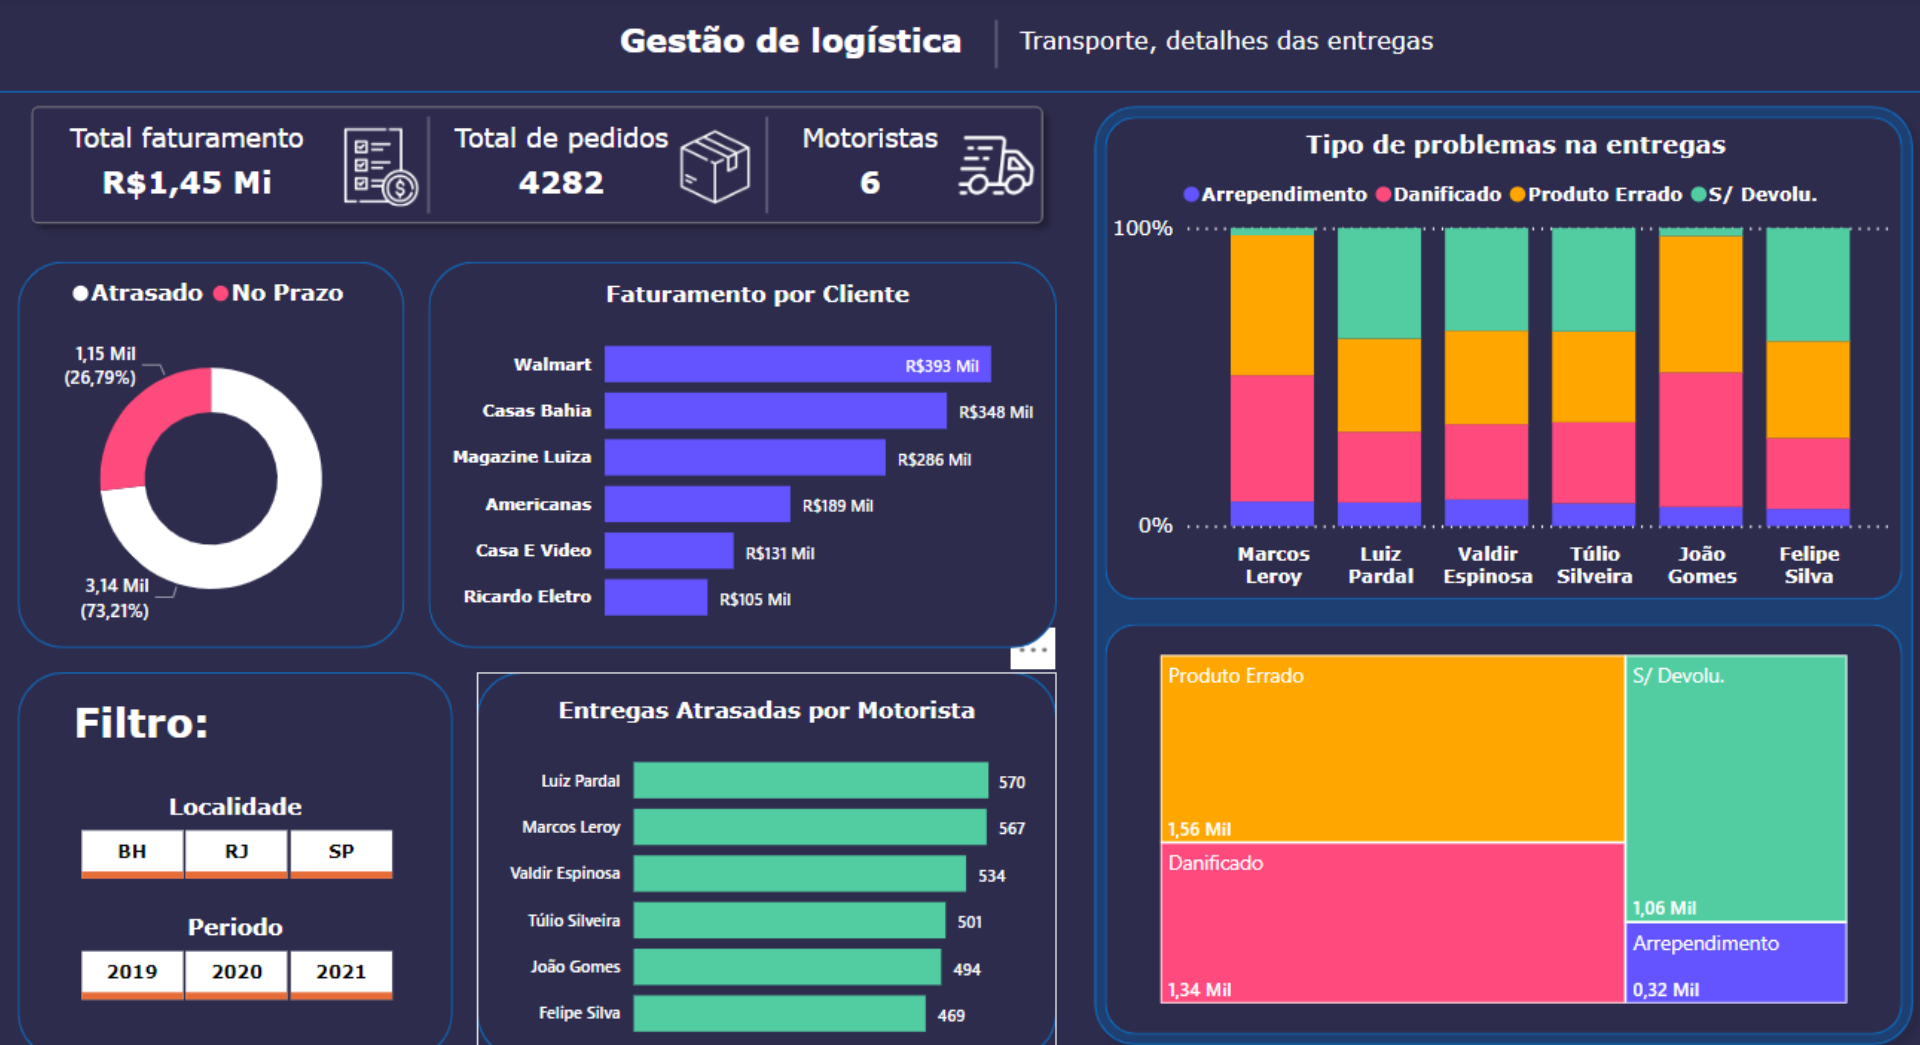

The dashboard page shown, as its layout file describes it:
{"tool":"powerbi","page":{"name":"Logistica","canvas":[1280,720],"ordinal":1},"visuals":[{"type":"shape","box":[0,48,1280,672],"z":0},{"type":"shape","box":[720,64,560,656],"z":2000},{"type":"shape","box":[736,80,528,320],"z":3000},{"type":"shape","box":[736,416,528,288],"z":4000},{"type":"shape","box":[320,448,384,256],"z":5000},{"type":"shape","box":[288,176,416,256],"z":6000},{"type":"shape","box":[16,176,256,256],"z":7000},{"type":"shape","box":[16,448,288,256],"z":8000},{"type":"shape","box":[16,64,688,96],"z":9000},{"type":"slicer","title":"Periodo","fields":{"Values":["tbFaturamento.Data Emissão Pedido.Variation.Hierarquia de datas.Ano"]},"box":[27,240,240,64],"z":10000},{"type":"clusteredBarChart","title":"Faturamento por Cliente","fields":{"Category":["tbFaturamento.Cliente"],"Y":["logistica.R$ Faturados"]},"box":[298,188,416,240],"z":11000},{"type":"slicer","title":"Localidade","fields":{"Values":["tbFaturamento.Destino"]},"box":[24,336,240,64],"z":12000},{"type":"donutChart","title":"Status da Entrega","fields":{"Category":["tbFaturamento.Status"],"Y":["tbFaturamento.Nº Pedido"]},"box":[16,448,288,272],"z":13000},{"type":"treemap","title":"Motivo de devolucao","fields":{"Group":["tbFaturamento.Mot. Devolução"],"Values":["tbFaturamento.Nº Pedido"]},"box":[752,423,496,274],"z":14000},{"type":"clusteredBarChart","title":"Entregas Atrasadas por Motorista","fields":{"Category":["tbFaturamento.Motorista"],"Y":["logistica.Nº Pedido"]},"box":[336,464,352,240],"z":15000},{"type":"hundredPercentStackedColumnChart","title":"Devolucao por Motorias","fields":{"Category":["tbFaturamento.Motorista"],"Y":["tbFaturamento.Nº Pedido"],"Series":["tbFaturamento.Mot. Devolução"]},"box":[736,112,528,288],"z":16000},{"type":"card","title":"Total faturamento","fields":{"Values":["tbFaturamento.R$ Faturados"]},"box":[16,82,224,64],"z":17000},{"type":"card","title":"Total de pedidos","fields":{"Values":["tbFaturamento.Nº Pedido"]},"box":[256,82,240,64],"z":18000},{"type":"card","title":"Motoristas","fields":{"Values":["tbFaturamento.Motorista"]},"box":[492,82,176,64],"z":19000},{"type":"textbox","title":"Filtro por:","box":[90,188,112,32],"z":20000},{"type":"shape","box":[256,80,64,64],"z":21000},{"type":"shape","box":[480,80,64,64],"z":22000},{"type":"textbox","title":"Tipo de problemas na entregas","box":[864,89,304,26],"z":23000},{"type":"image","box":[215,80,80,64],"z":24000},{"type":"image","box":[624,80,80,64],"z":25000},{"type":"image","box":[446,80,64,64],"z":26000},{"type":"shape","box":[0,0,1280,64],"z":27000},{"type":"textbox","title":"Gestão de logística ","box":[400,16,256,32],"z":28000},{"type":"shape","box":[656,16,16,32],"z":29000},{"type":"textbox","title":"Transporte, detalhes das entregas","box":[672,20,289,23],"z":30000}]}

Visuals, with their boxes on the page's 1280x720 design canvas (x1, y1, x2, y2). These are canvas units, not pixel positions in the 1920x1045 screenshot, which may show the page scaled, cropped or inside an application window:
shape: (left=0, top=48, right=1280, bottom=720)
shape: (left=720, top=64, right=1280, bottom=720)
shape: (left=736, top=80, right=1264, bottom=400)
shape: (left=736, top=416, right=1264, bottom=704)
shape: (left=320, top=448, right=704, bottom=704)
shape: (left=288, top=176, right=704, bottom=432)
shape: (left=16, top=176, right=272, bottom=432)
shape: (left=16, top=448, right=304, bottom=704)
shape: (left=16, top=64, right=704, bottom=160)
"Periodo" slicer: (left=27, top=240, right=267, bottom=304)
"Faturamento por Cliente" clusteredBarChart: (left=298, top=188, right=714, bottom=428)
"Localidade" slicer: (left=24, top=336, right=264, bottom=400)
"Status da Entrega" donutChart: (left=16, top=448, right=304, bottom=720)
"Motivo de devolucao" treemap: (left=752, top=423, right=1248, bottom=697)
"Entregas Atrasadas por Motorista" clusteredBarChart: (left=336, top=464, right=688, bottom=704)
"Devolucao por Motorias" hundredPercentStackedColumnChart: (left=736, top=112, right=1264, bottom=400)
"Total faturamento" card: (left=16, top=82, right=240, bottom=146)
"Total de pedidos" card: (left=256, top=82, right=496, bottom=146)
"Motoristas" card: (left=492, top=82, right=668, bottom=146)
"Filtro por:" textbox: (left=90, top=188, right=202, bottom=220)
shape: (left=256, top=80, right=320, bottom=144)
shape: (left=480, top=80, right=544, bottom=144)
"Tipo de problemas na entregas" textbox: (left=864, top=89, right=1168, bottom=115)
image: (left=215, top=80, right=295, bottom=144)
image: (left=624, top=80, right=704, bottom=144)
image: (left=446, top=80, right=510, bottom=144)
shape: (left=0, top=0, right=1280, bottom=64)
"Gestão de logística " textbox: (left=400, top=16, right=656, bottom=48)
shape: (left=656, top=16, right=672, bottom=48)
"Transporte, detalhes das entregas" textbox: (left=672, top=20, right=961, bottom=43)
